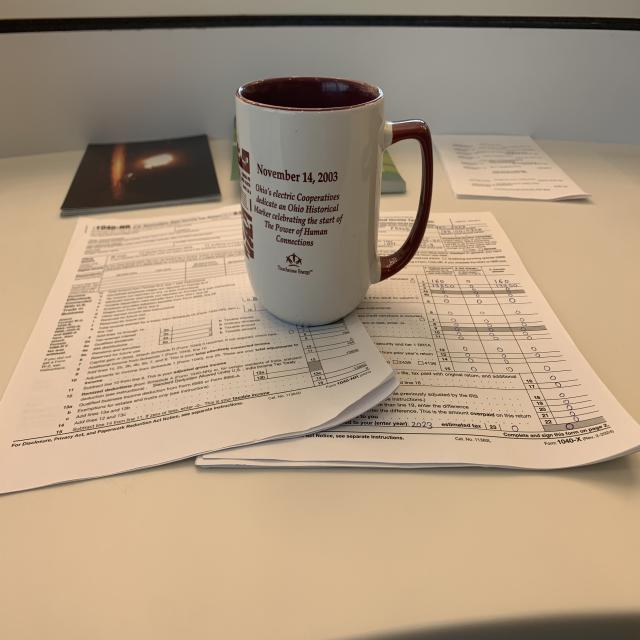Cup: (231, 71, 442, 337)
